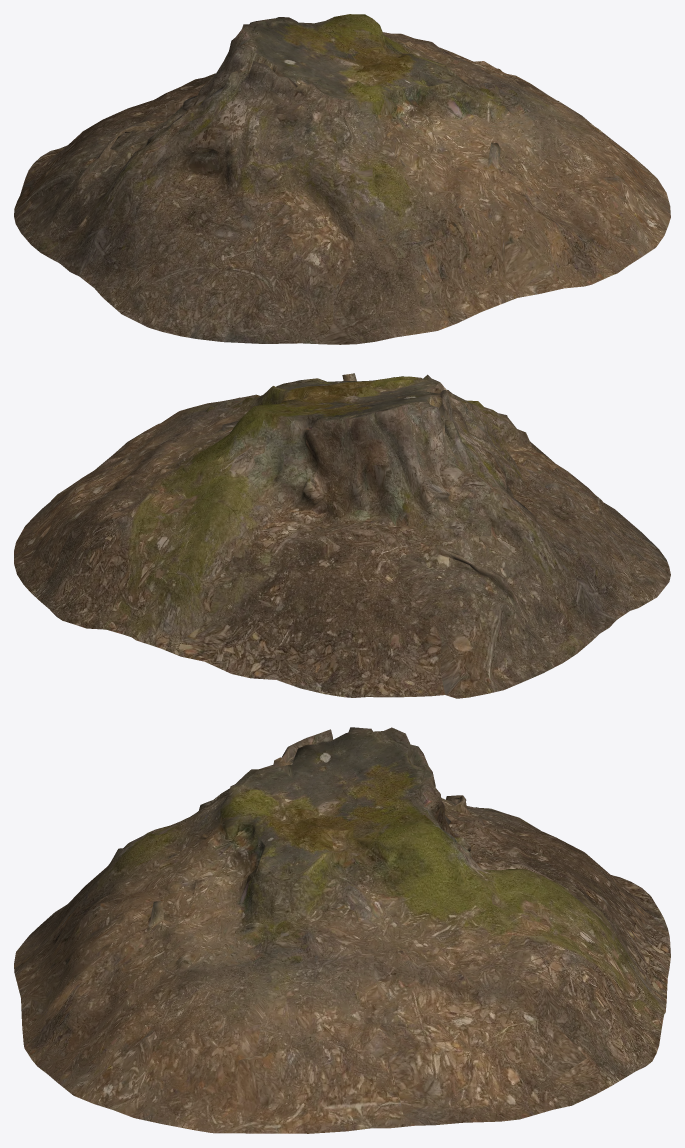
File: tree_stump_02.glb
3 views of the same model, one above another, from view 1: azimuth 30°, elevation 25°; view 2: azimuth 150°, elevation 25°; view 3: azimuth 270°, elevation 25° (orthographic). The views are drawn at different scales.
Visible parts, largest first — view 1: tree_stump_02; view 2: tree_stump_02; view 3: tree_stump_02.
Boxes of the visible parts, left/top/right/bottom form: tree_stump_02: left=14, top=14, right=670, bottom=344; tree_stump_02: left=14, top=373, right=670, bottom=698; tree_stump_02: left=14, top=727, right=670, bottom=1133.
Size of the model in its own units: 1.52 by 0.5224 by 1.39.
Materials: 1 (1 with a texture image).
